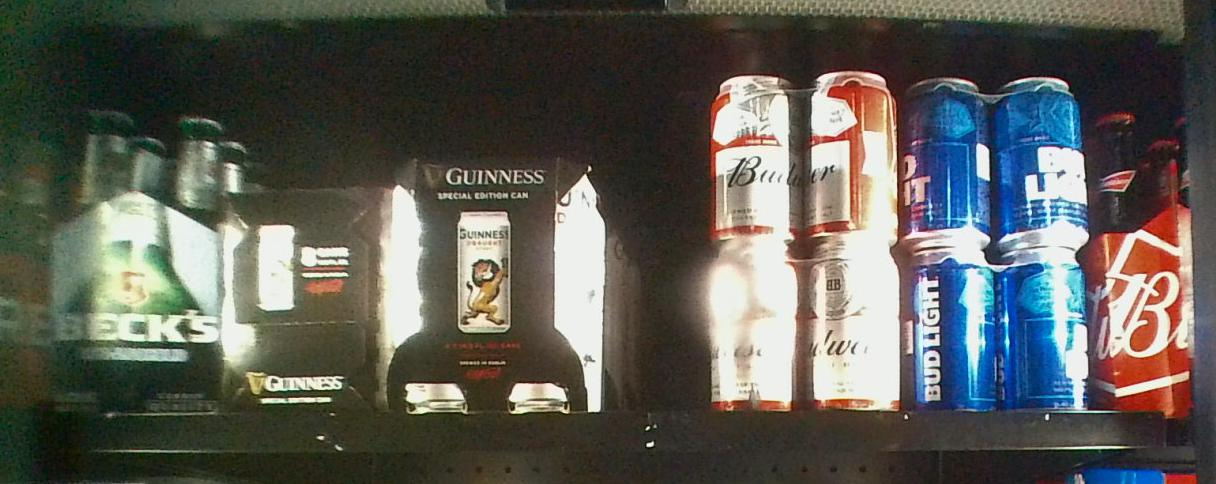bottle: (900, 74, 1091, 412), (712, 74, 900, 412), (382, 153, 603, 412), (53, 105, 222, 412), (226, 187, 376, 412)
